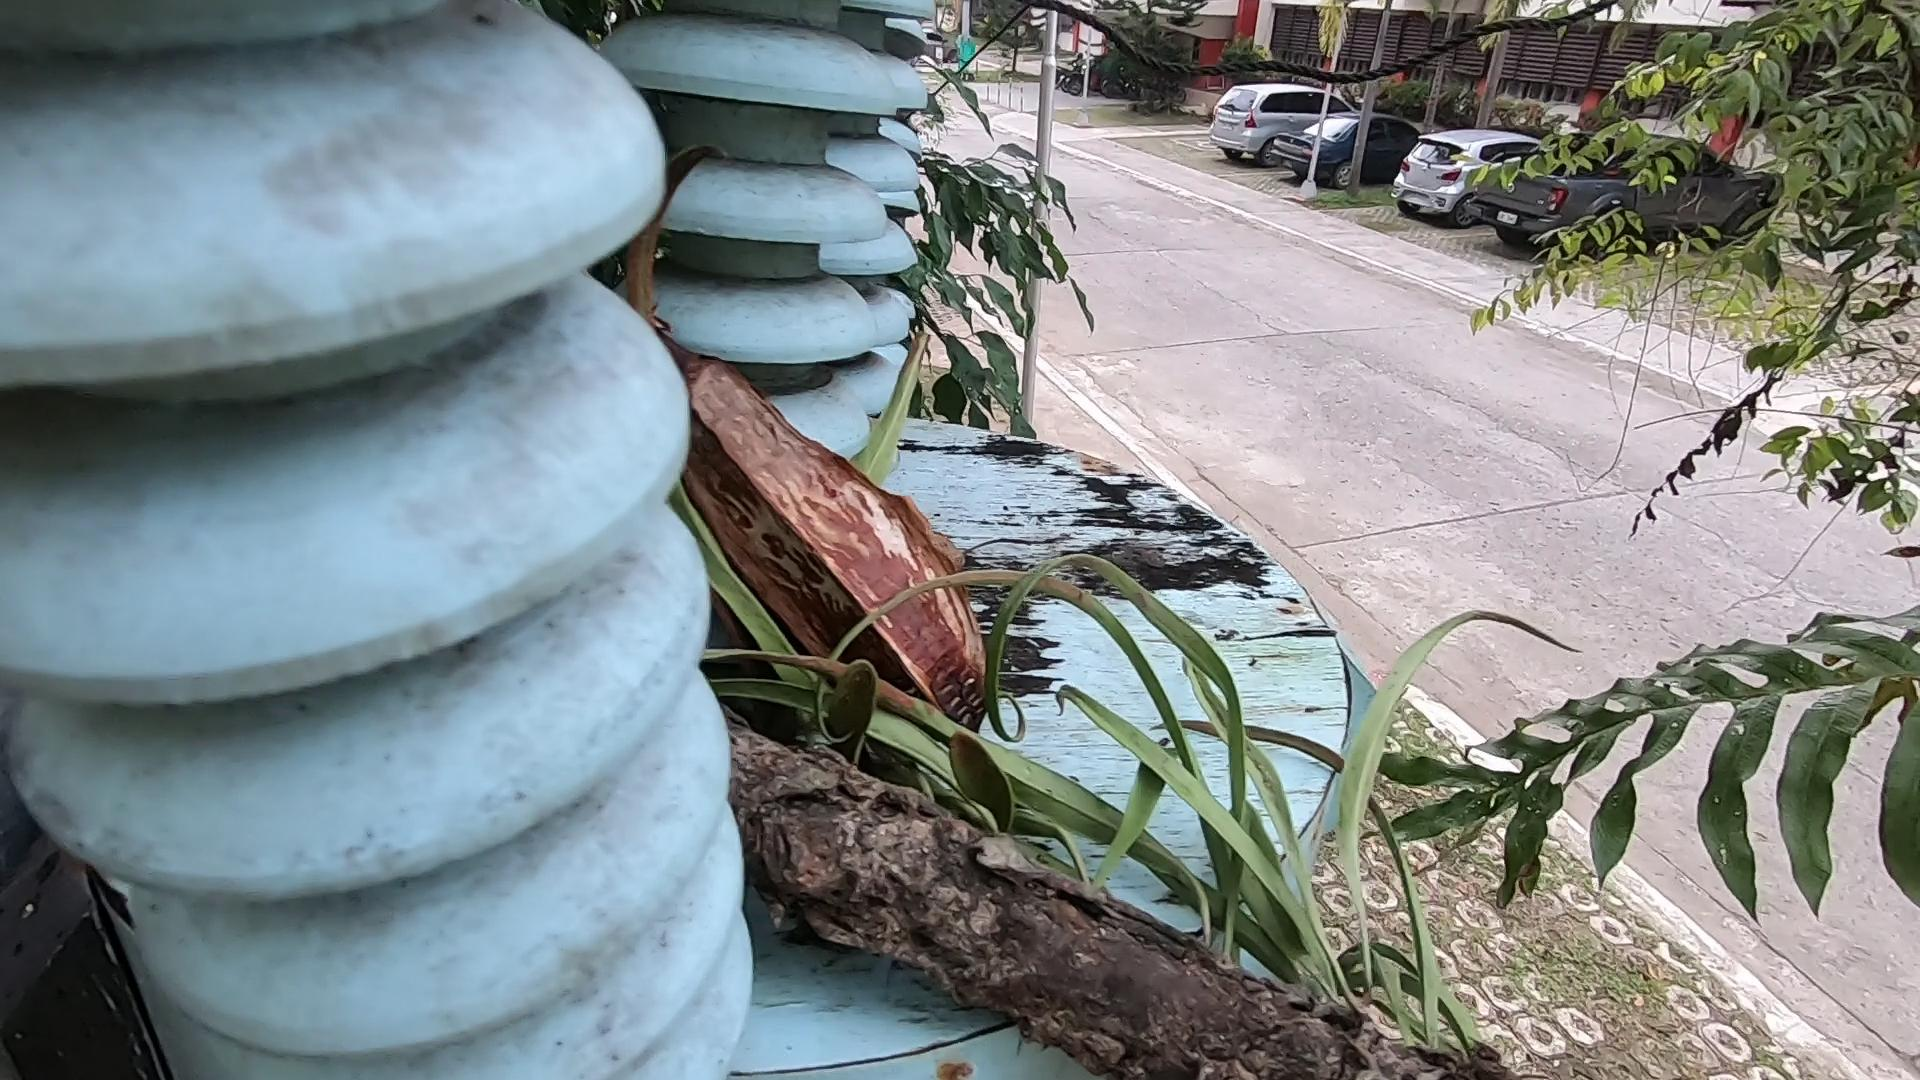branch with leaves: (735, 736, 1418, 1080)
mahogany fruit: (487, 284, 1267, 785)
